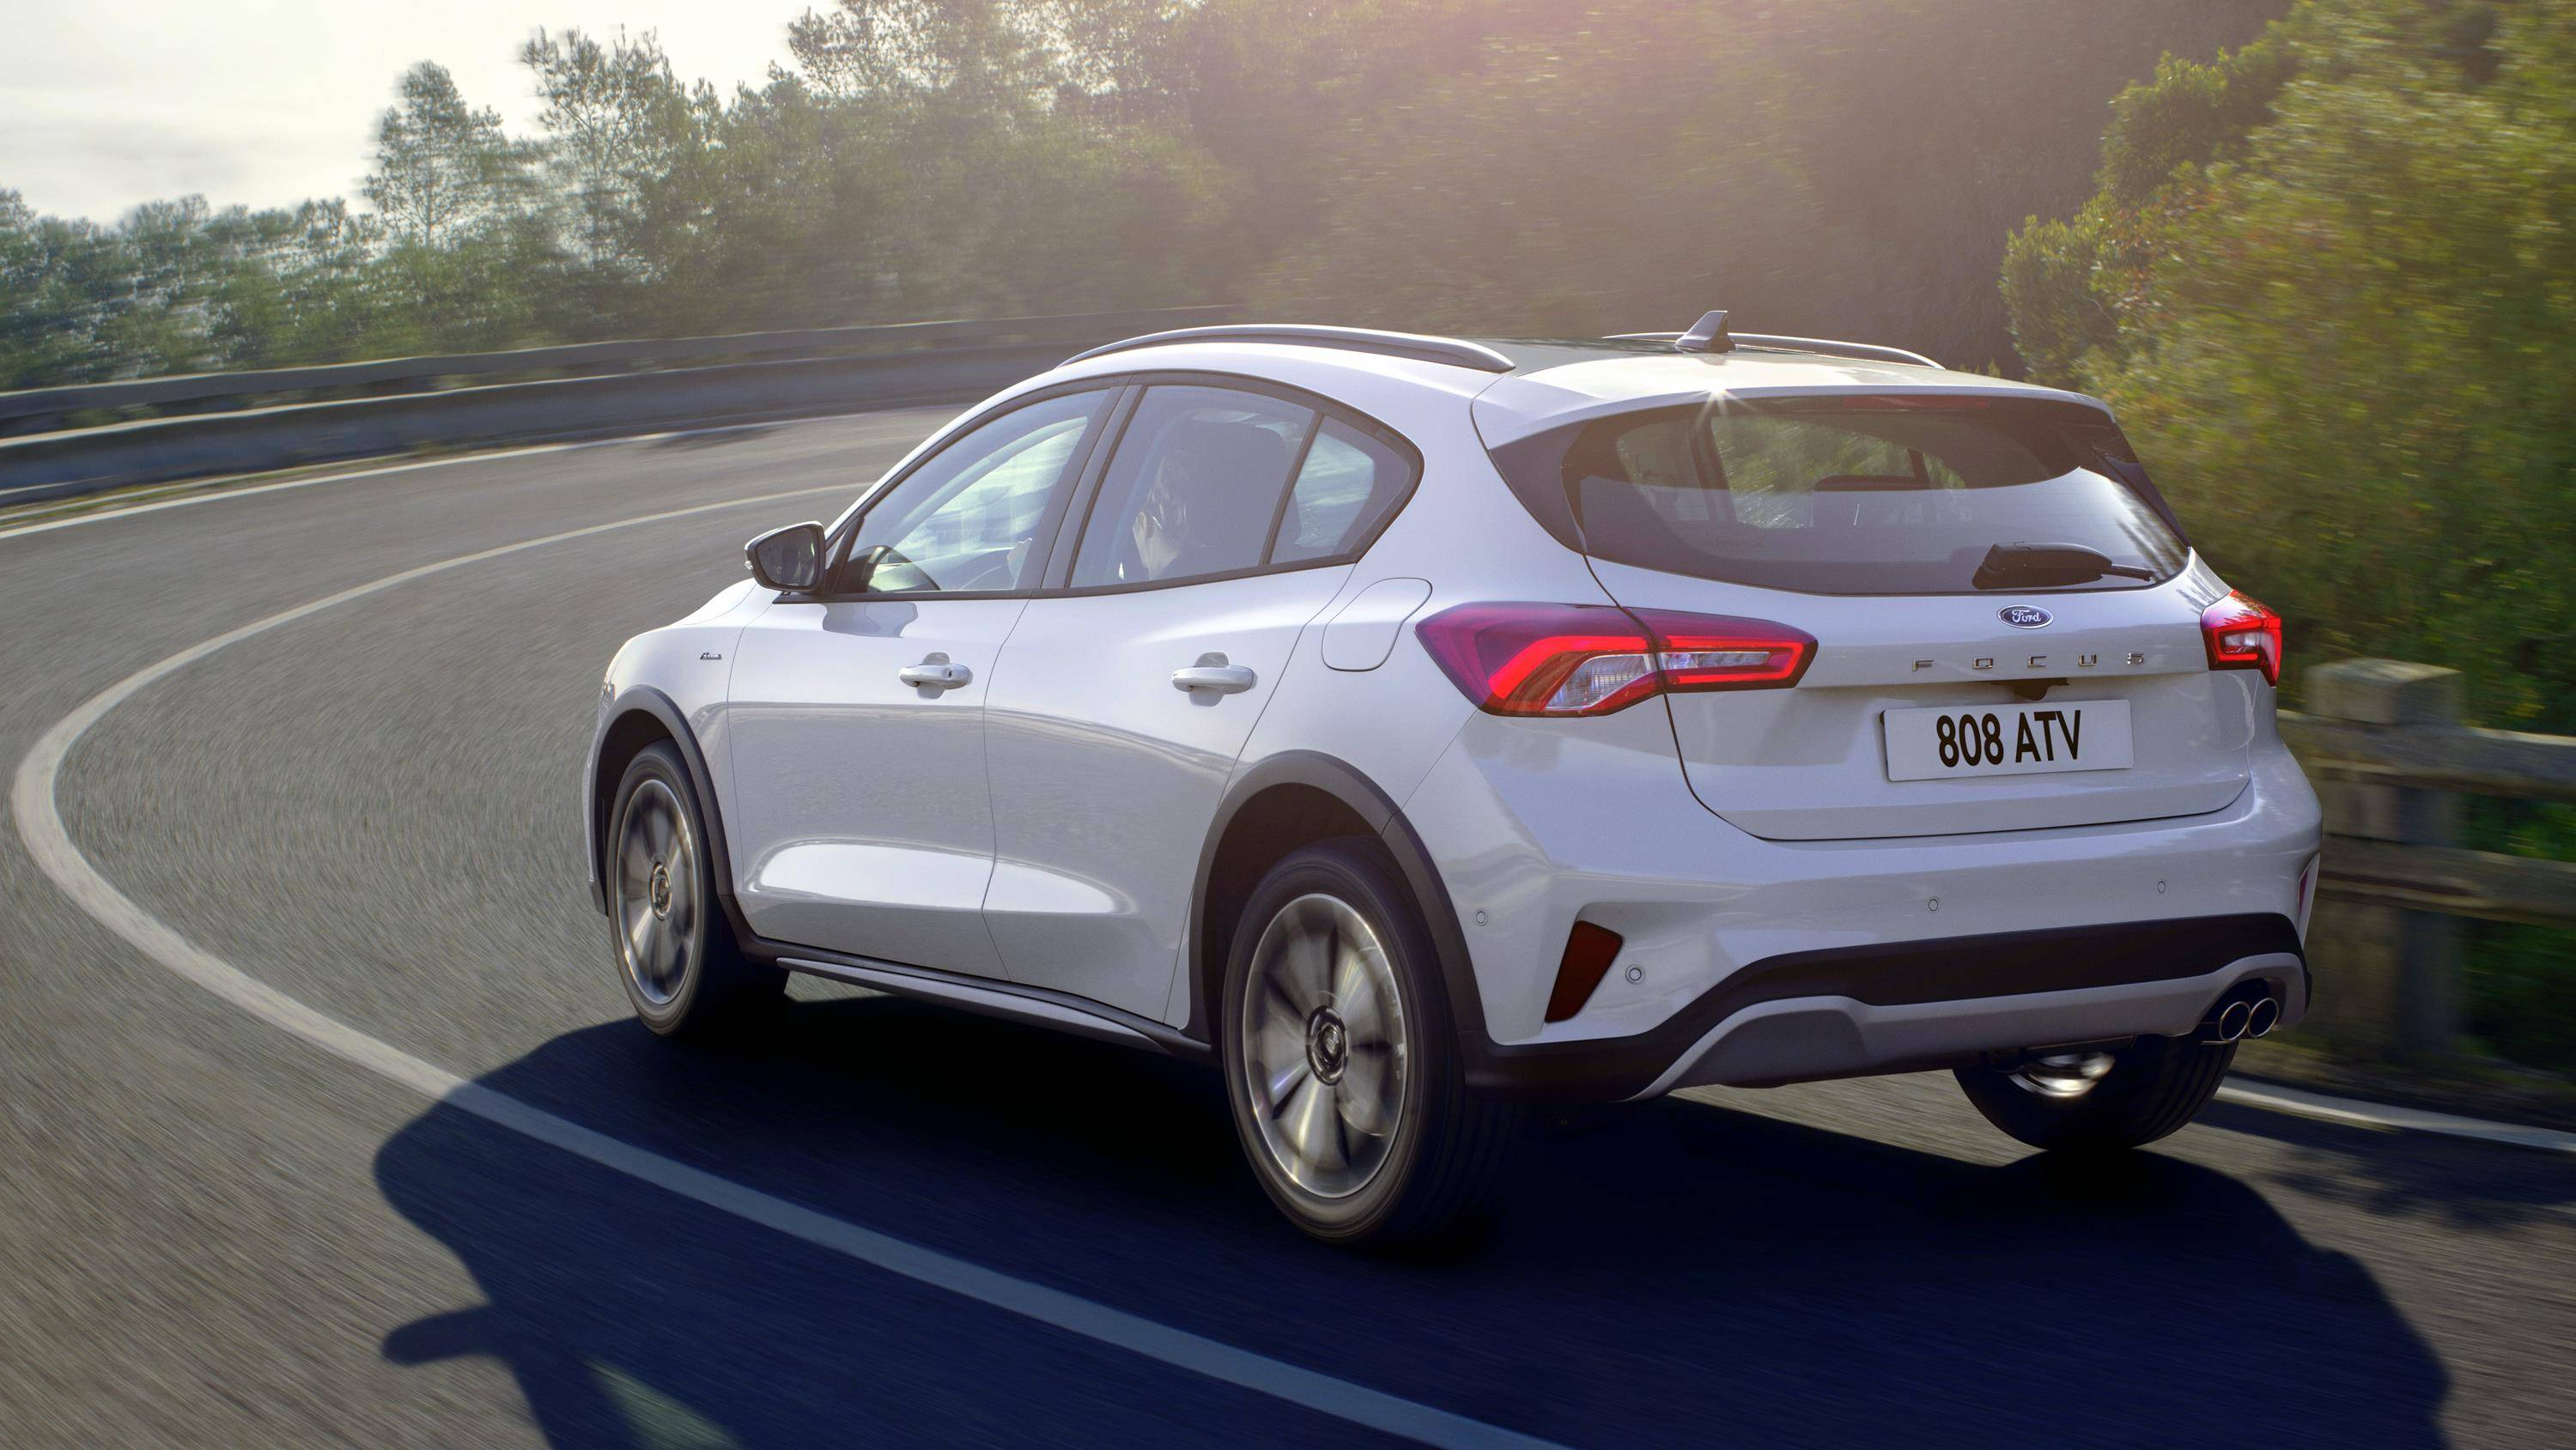Carro: (557, 306, 2339, 1257)
